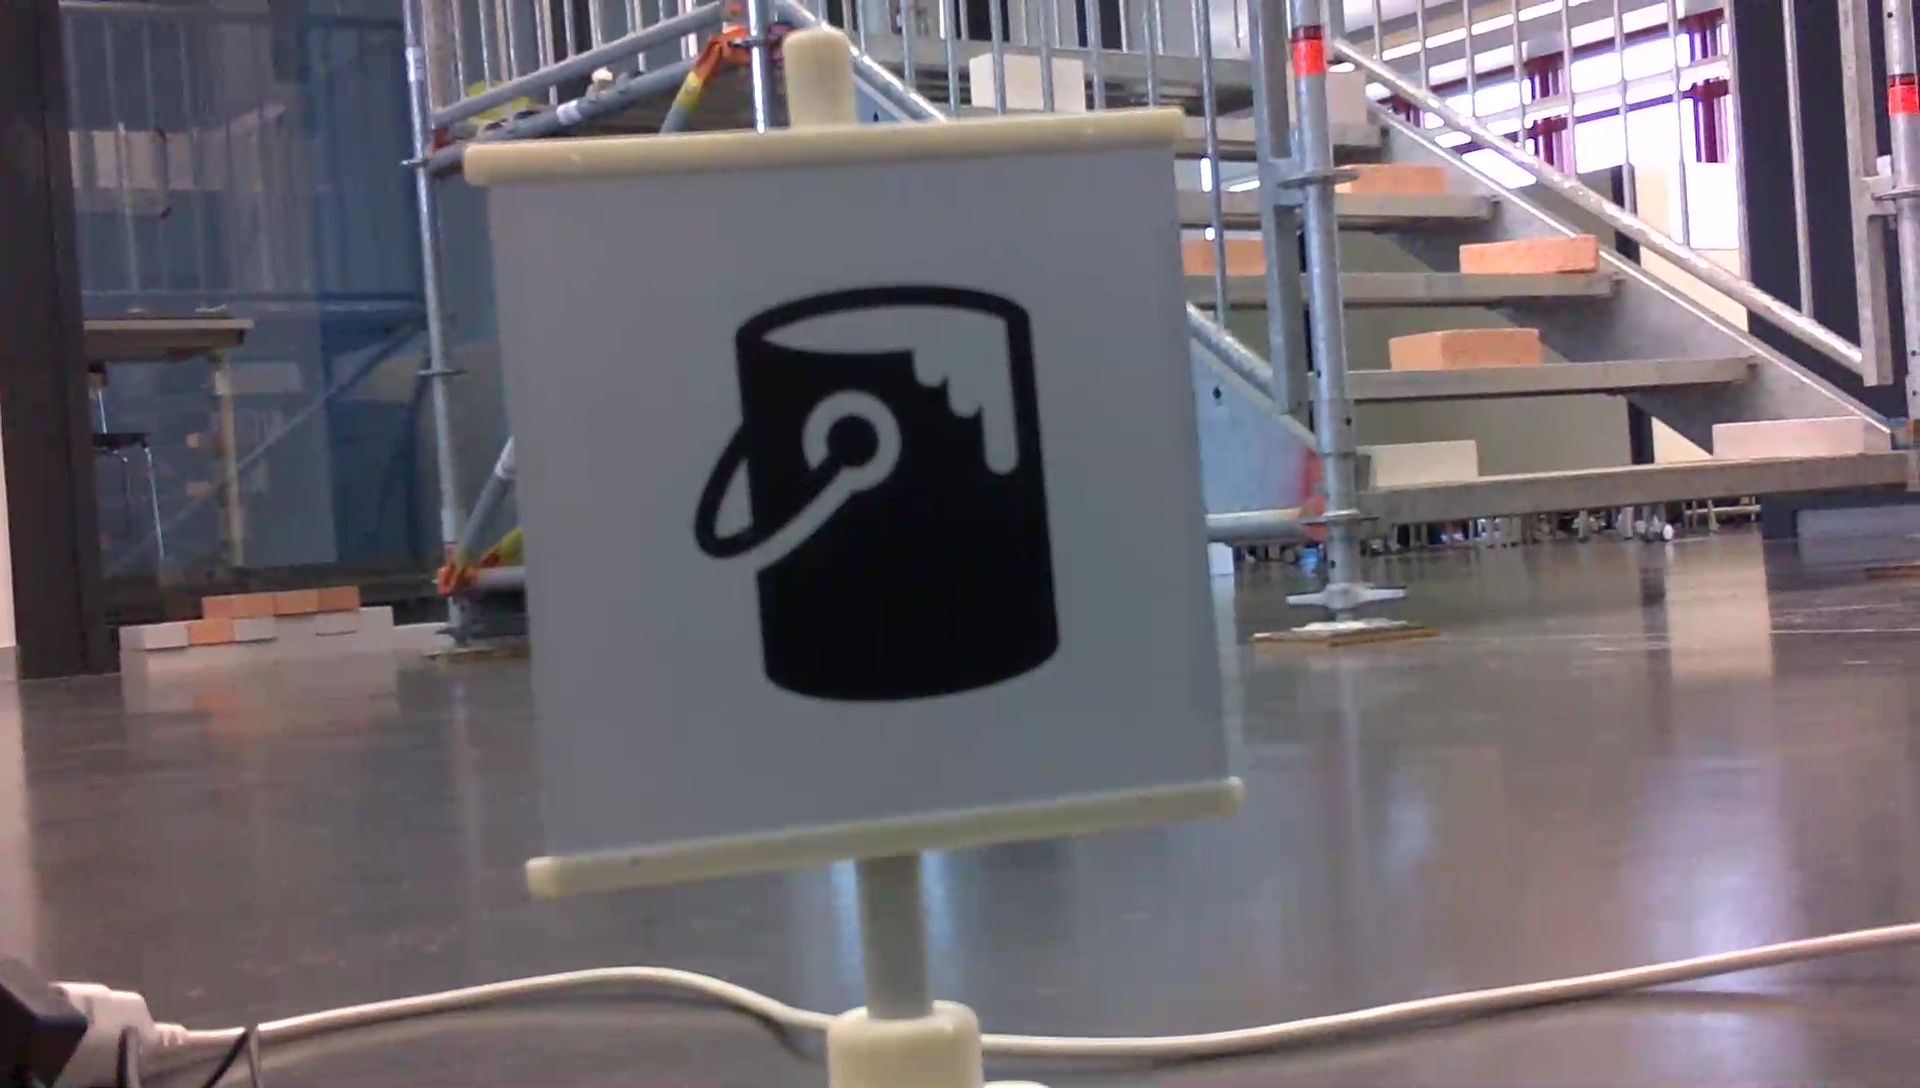brick: (1389, 326, 1535, 369), (1717, 415, 1862, 458), (1462, 235, 1597, 270), (1371, 443, 1474, 481), (1354, 164, 1443, 198), (1328, 73, 1365, 120)
bucket: (676, 278, 1065, 710)
edge: (1375, 458, 1908, 524), (1345, 357, 1758, 396)
